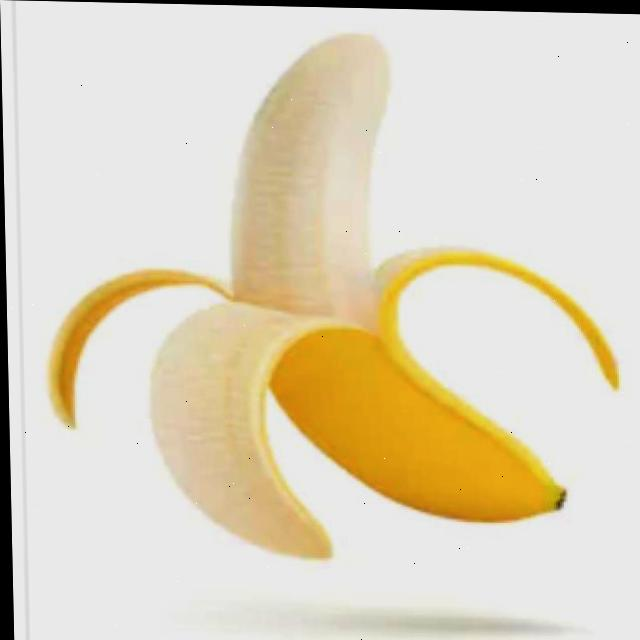banana: (193, 28, 604, 541)
